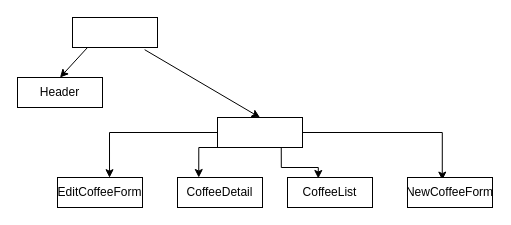
Some shapes in this 511 by 225 pixel diagram are drawn without their labels. The box of each missing label's shape, as (x1, y1, x2, y2) in pixels:
App: (72, 16, 158, 48)
CoffeeControl: (216, 116, 302, 148)
